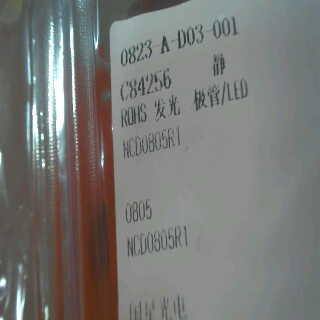LED: (148, 73, 252, 125)
